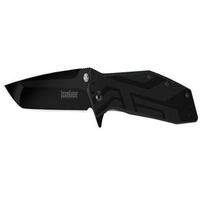knife: (2, 61, 200, 134)
